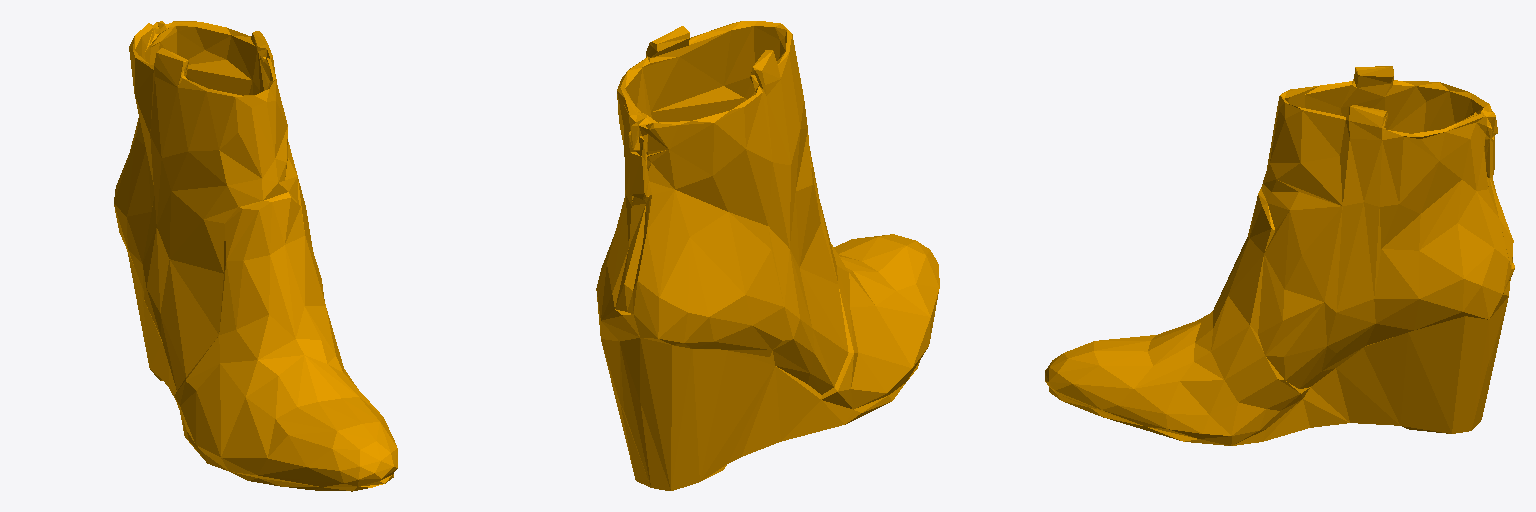
robot.urdf — Pansy:
<robot name="Pansy">
    <link name="base_link">
        <contact>
            <lateral_friction value="1.0" />
            <inertia_scaling value="3.0" />
        </contact>
        <inertial>
            <origin rpy="0 0 0" xyz="0 0 0" />
            <mass value="0.155870745332668" />
            <inertia ixx="1" ixy="0" ixz="0" iyy="1" iyz="0" izz="1" />
        </inertial>
        <visual>
            <origin rpy="0 0 0" xyz="0 0 0" />
            <geometry>
                <mesh filename="model_RcqC01G24pR.obj" rpy="0 0 0" />
            </geometry>
        </visual>
        <collision>
            <origin rpy="0 0 0" xyz="0 0 0" />
            <geometry>
                <mesh filename="model_RcqC01G24pR_vhacd.obj" rpy="0 0 0" />
            </geometry>
        </collision>
    </link>
</robot>

--- Render facts (derived) ---
The picture shows the robot from 3 angles, left to right: view 1: azimuth 30°, elevation 25°; view 2: azimuth 150°, elevation 25°; view 3: azimuth 270°, elevation 25°; orthographic projection.
Robot: Pansy — 1 links, 0 joints (none); root link base_link; default pose: every joint at zero.
Visible links, largest first — view 1: base_link; view 2: base_link; view 3: base_link.
Link boxes in pixels (x1,y1,x2,y2): base_link: (114, 21, 397, 491); base_link: (596, 21, 939, 490); base_link: (1045, 66, 1514, 445).
Bounding box of the posed robot: 0.0868 × 0.2463 × 0.1944 m (x, y, z).
Meshes: 1 distinct files referenced, 1 mesh visuals loaded (1 OBJ).
